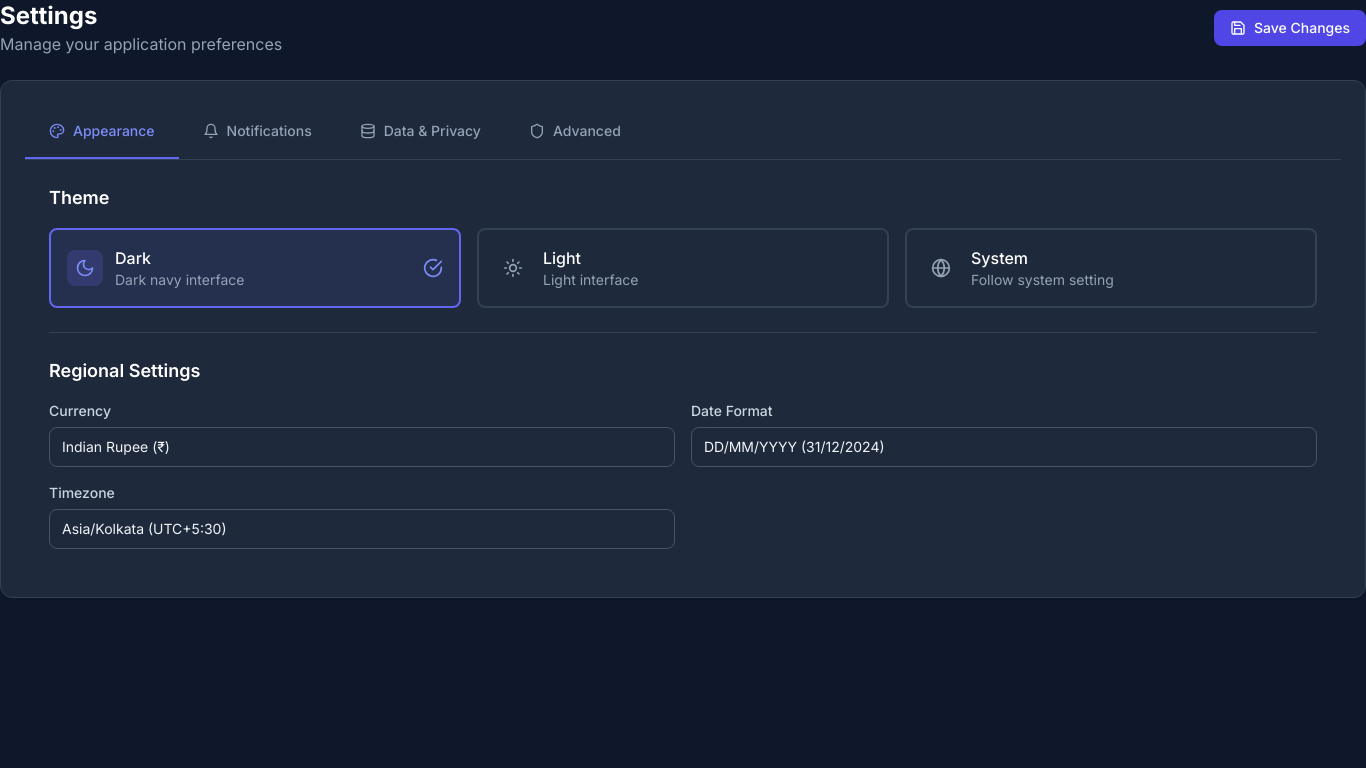
it: Settings Page › switches to the notifications tab
Step 1. Click the tab "Notifications" → (257, 132), box [179, 105, 336, 159]
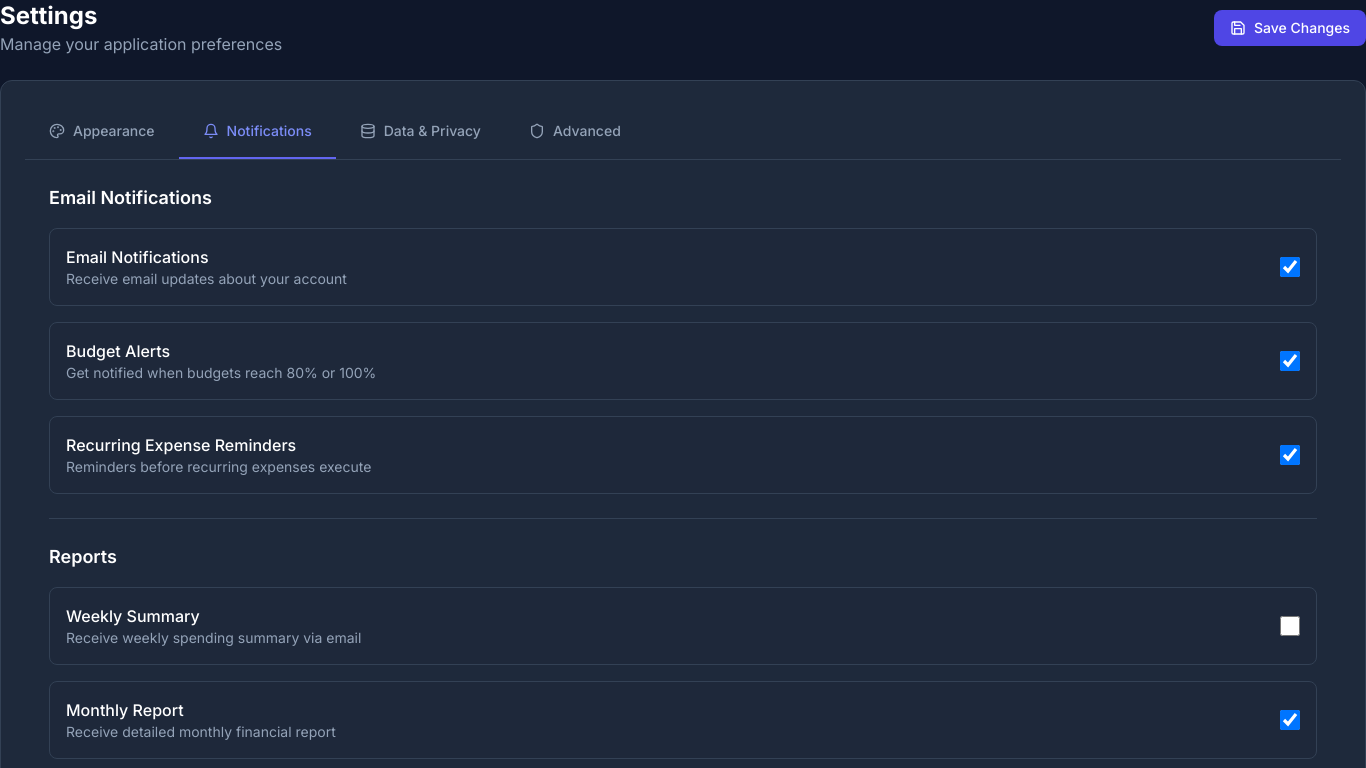
Expected: the heading "Email Notifications" is shown, [49, 187, 212, 208]
Expected: the heading "Reports" is shown, [49, 546, 117, 567]
Expected: the checkbox labelled "Email Notifications Receive email updates about your account" is checked, [1280, 257, 1300, 277]
